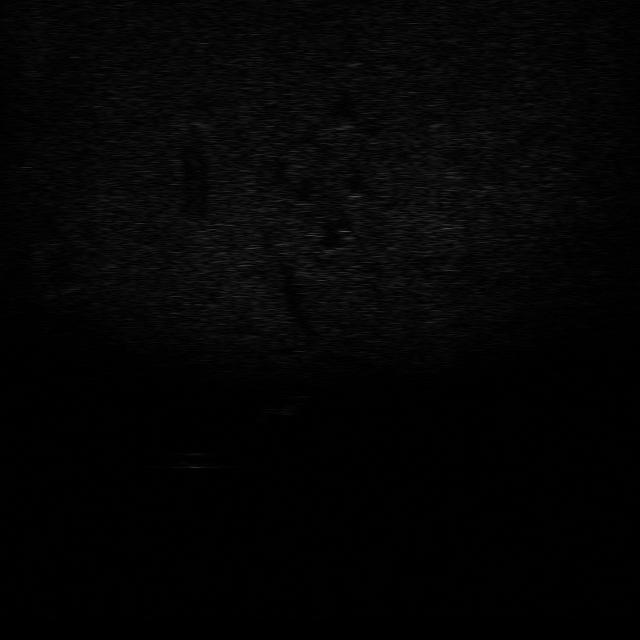ball: (170, 448, 224, 471)
human body: (255, 389, 307, 423)
